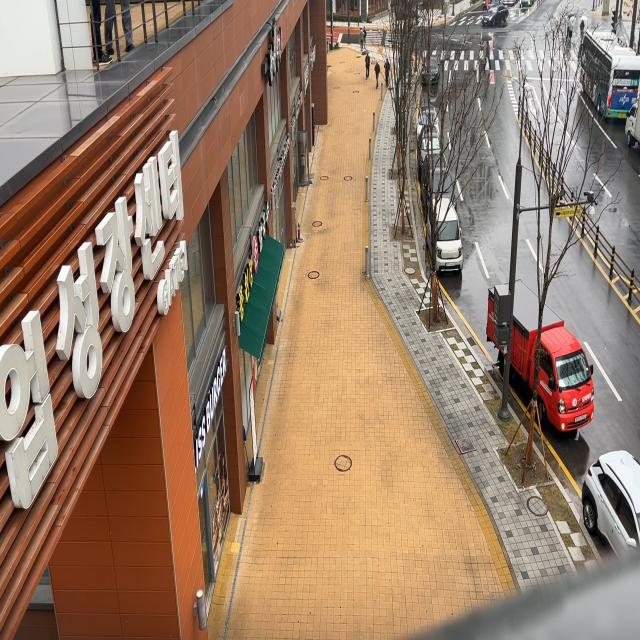Bus: (579, 30, 640, 126)
Car: (580, 446, 640, 564), (426, 195, 466, 278), (418, 148, 464, 210), (479, 0, 514, 36)
Truck: (482, 275, 604, 453), (621, 81, 640, 148)
